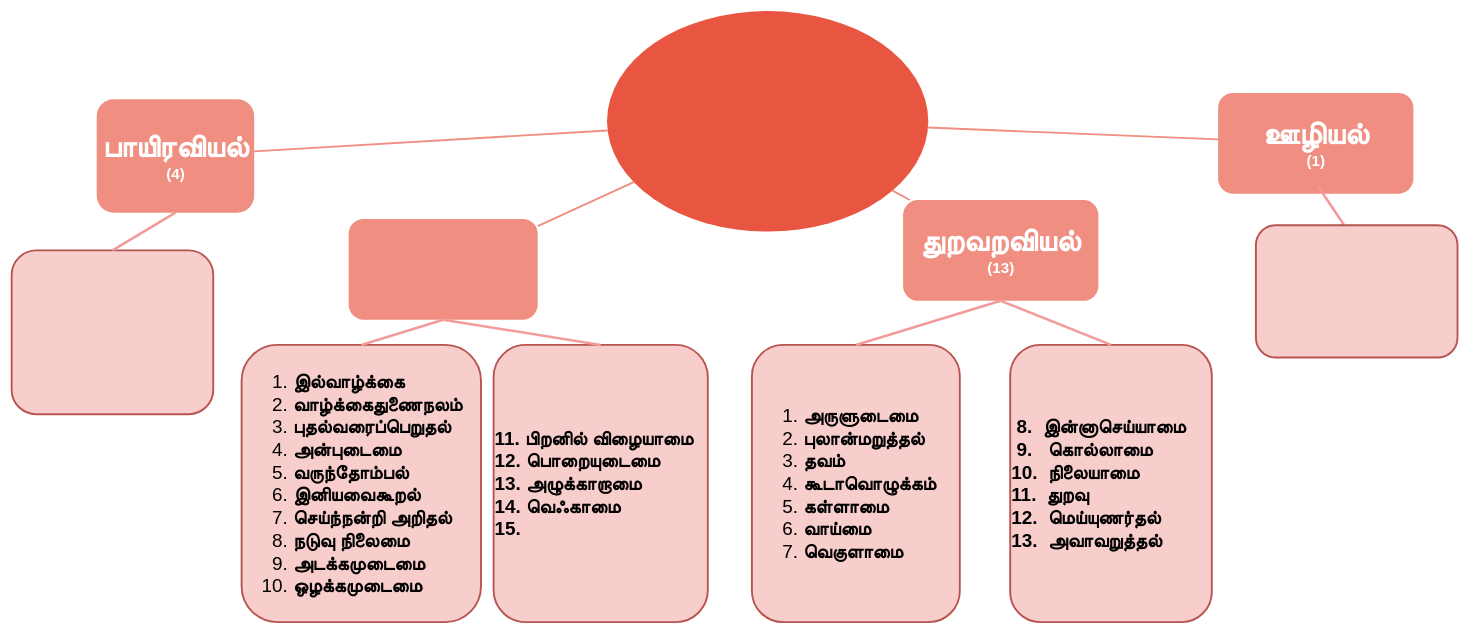
Image size: 1469x634. Some labels were removed from this diagram. The box of each missing label's shape, as (x1, y1, x2, y2) in pixels:
அறத்துப்பால் (38): (607, 11, 928, 231)
இல்லறவியல் (20): (348, 219, 537, 319)
ஊழ்: (1255, 224, 1458, 358)
கடவுள் வாழ்த்து வான்சிறப்பு நீத்தார் பெருமை அறன் வலியுறுத்தல்: (10, 249, 214, 415)
